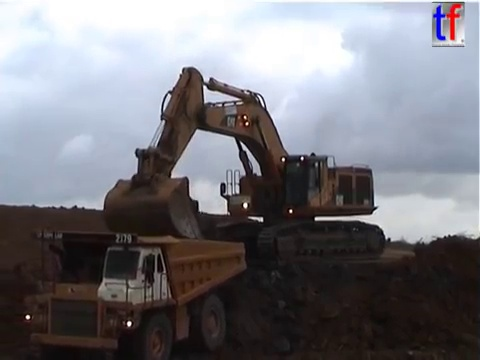excavator: (100, 64, 388, 266)
truck: (21, 226, 251, 360)
